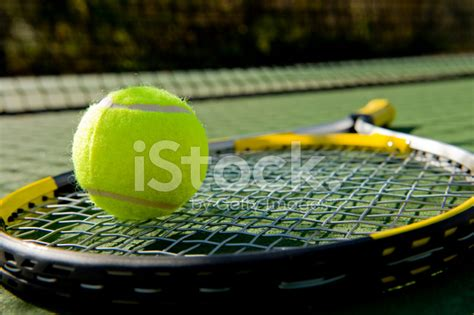tennis_ball: (73, 85, 209, 219)
